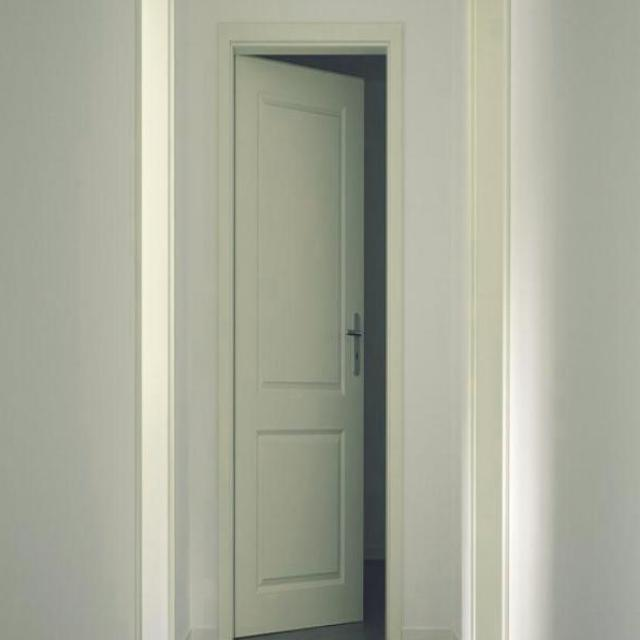door: (231, 53, 366, 637)
